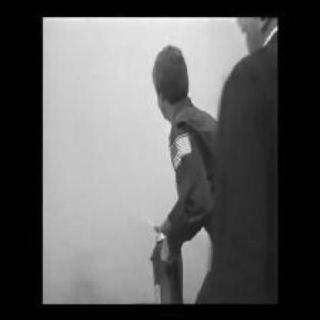other: (148, 219, 192, 303)
